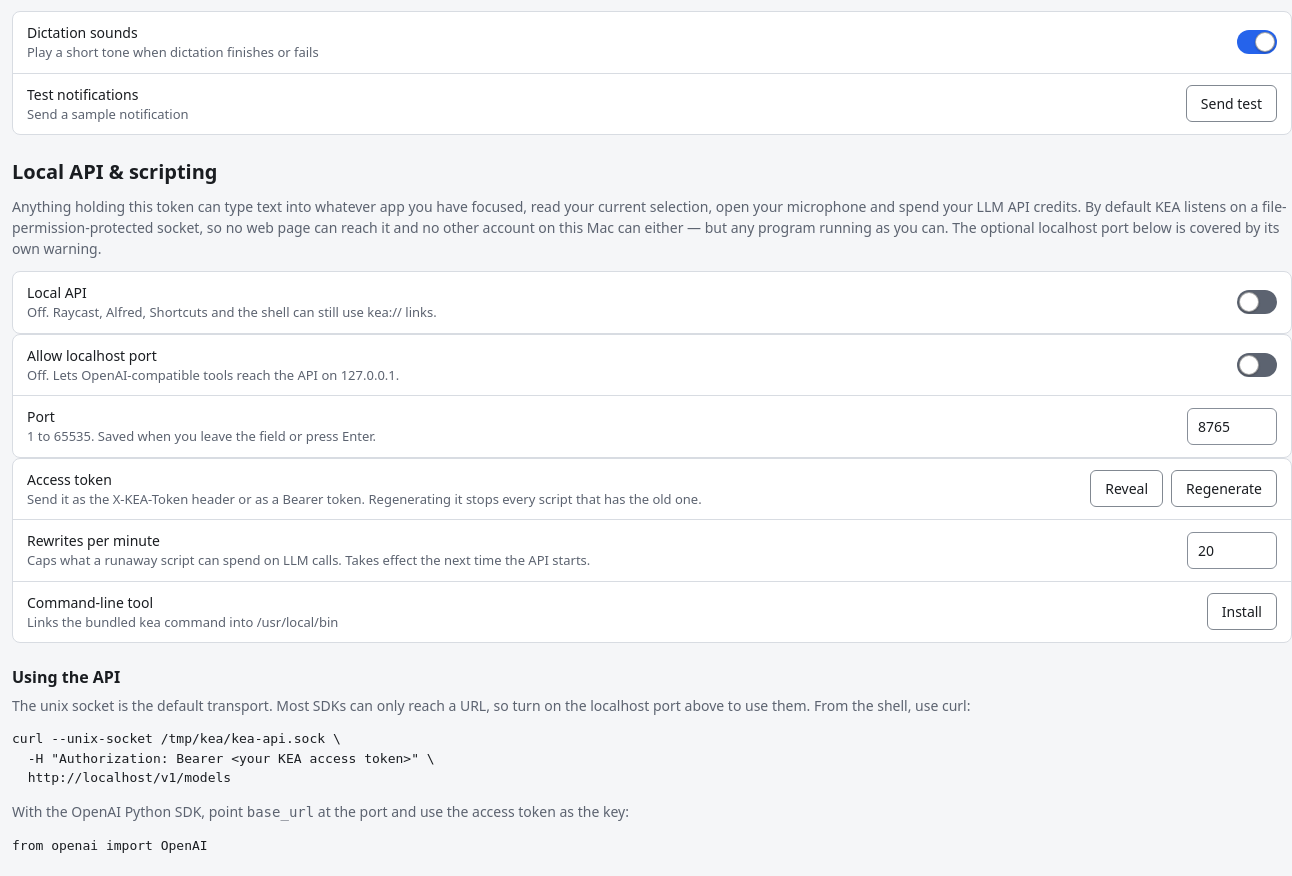
Scenario: GeneralPage › shows the port-in-use message when the new port cannot be bound
(page scrolled)
Replace the text in the number field named "Localhost port" with "9000" at (1232, 426), box left=1187, top=408, right=1277, bottom=445
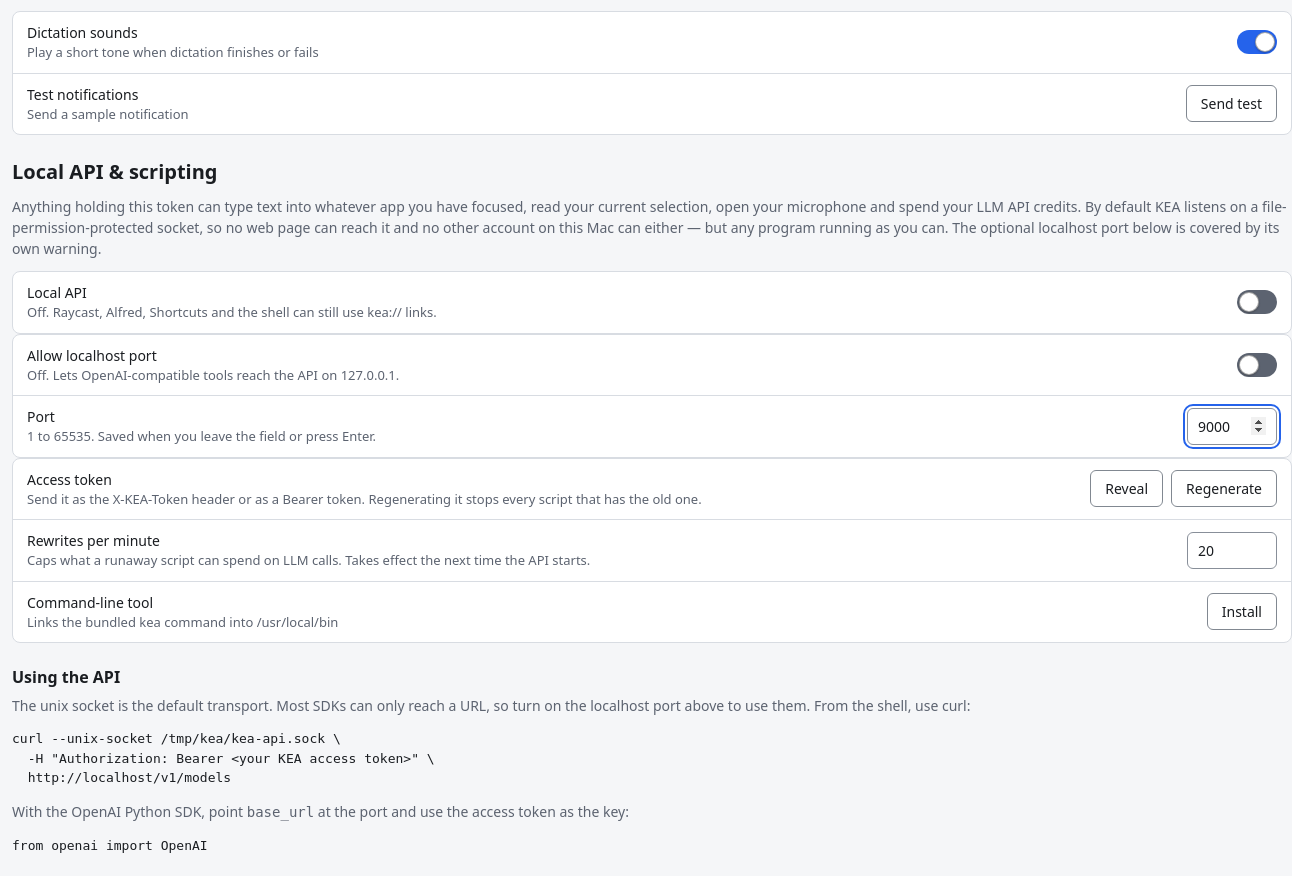
Press Tab
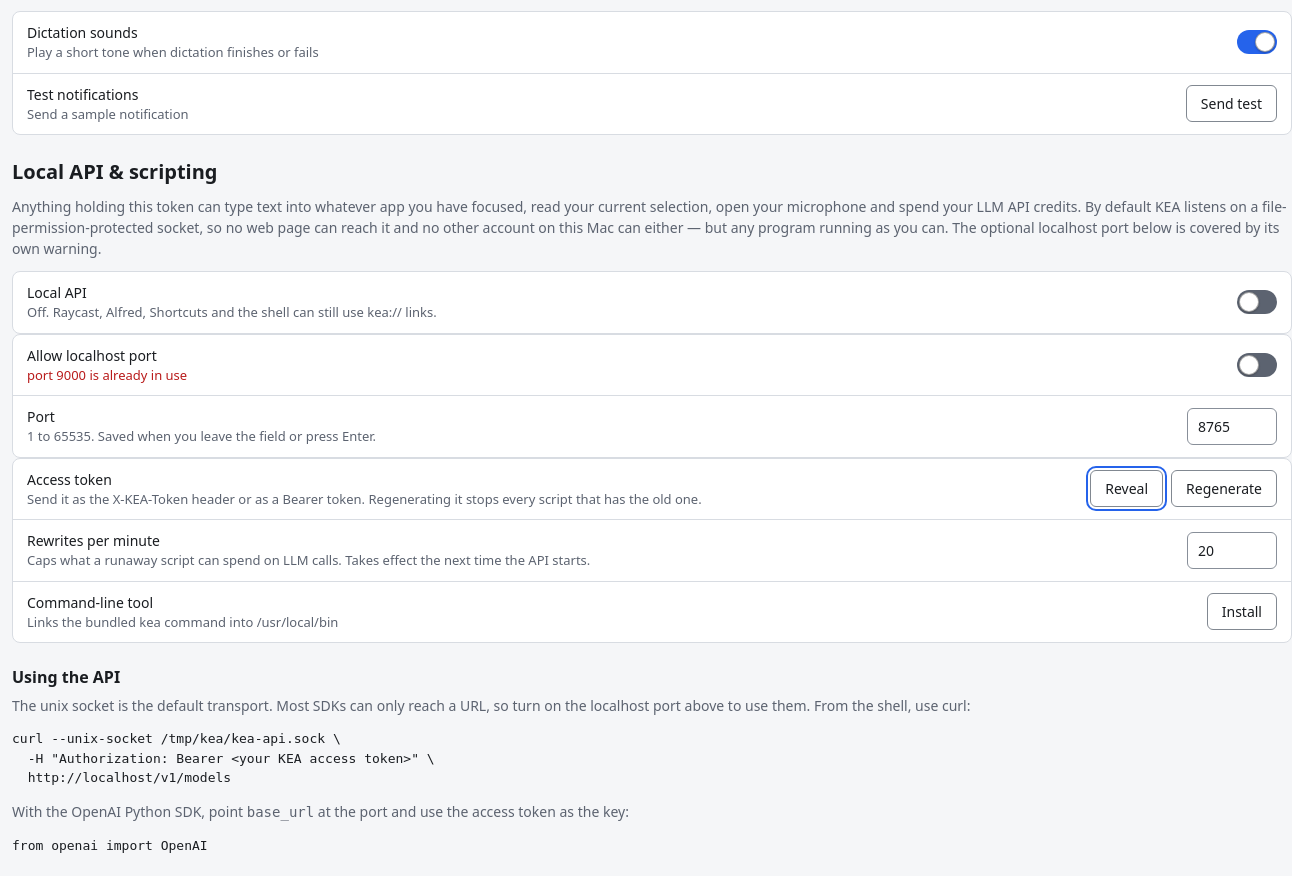
Expected: the text "port 9000 is already in use" is shown, left=27, top=366, right=187, bottom=385
